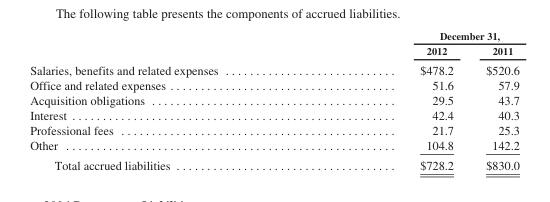table: (29, 29, 518, 171)
table column: (29, 29, 318, 171), (318, 29, 469, 171), (469, 29, 518, 171)
table column header: (29, 29, 518, 59)
table row: (29, 59, 518, 77), (29, 136, 518, 154), (29, 42, 518, 59), (29, 154, 518, 171), (29, 77, 518, 92), (29, 92, 518, 107), (29, 107, 518, 122), (29, 122, 518, 136), (29, 29, 518, 42)
table spanning cell: (318, 29, 518, 42)
